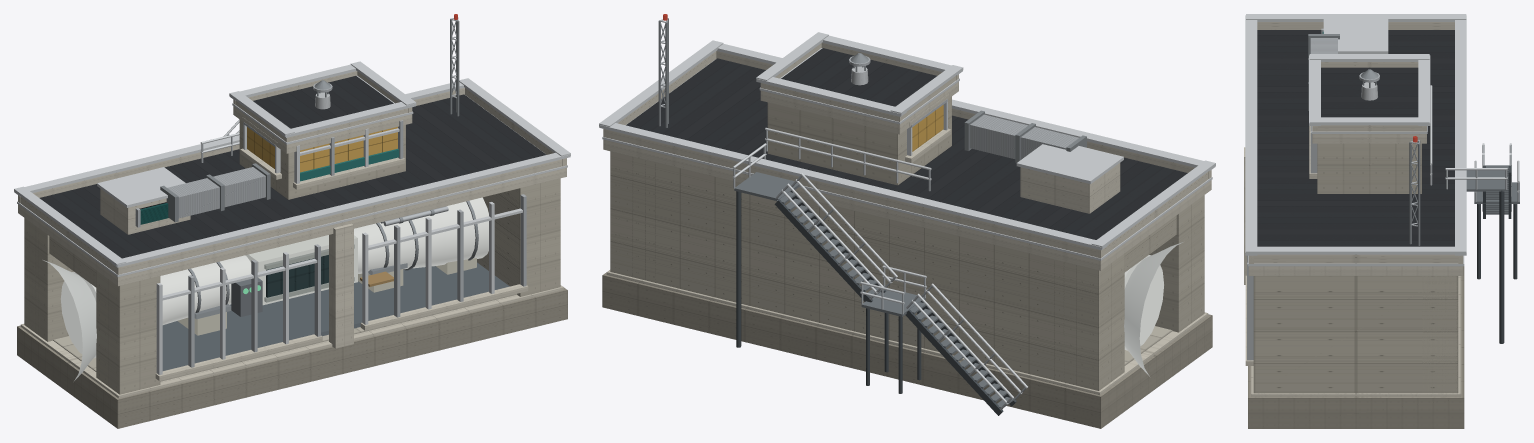
The model's file is fun-5-built.glb.
3 views of the same model, side by side, from view 1: azimuth 30°, elevation 25°; view 2: azimuth 150°, elevation 25°; view 3: azimuth 270°, elevation 25° (orthographic). The views are drawn at different scales.
Bounding box in the file's own units: 25.56 × 13.29 × 12.12.
38 materials, 20 textured.
